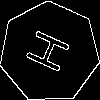H: (24, 27, 80, 79)
